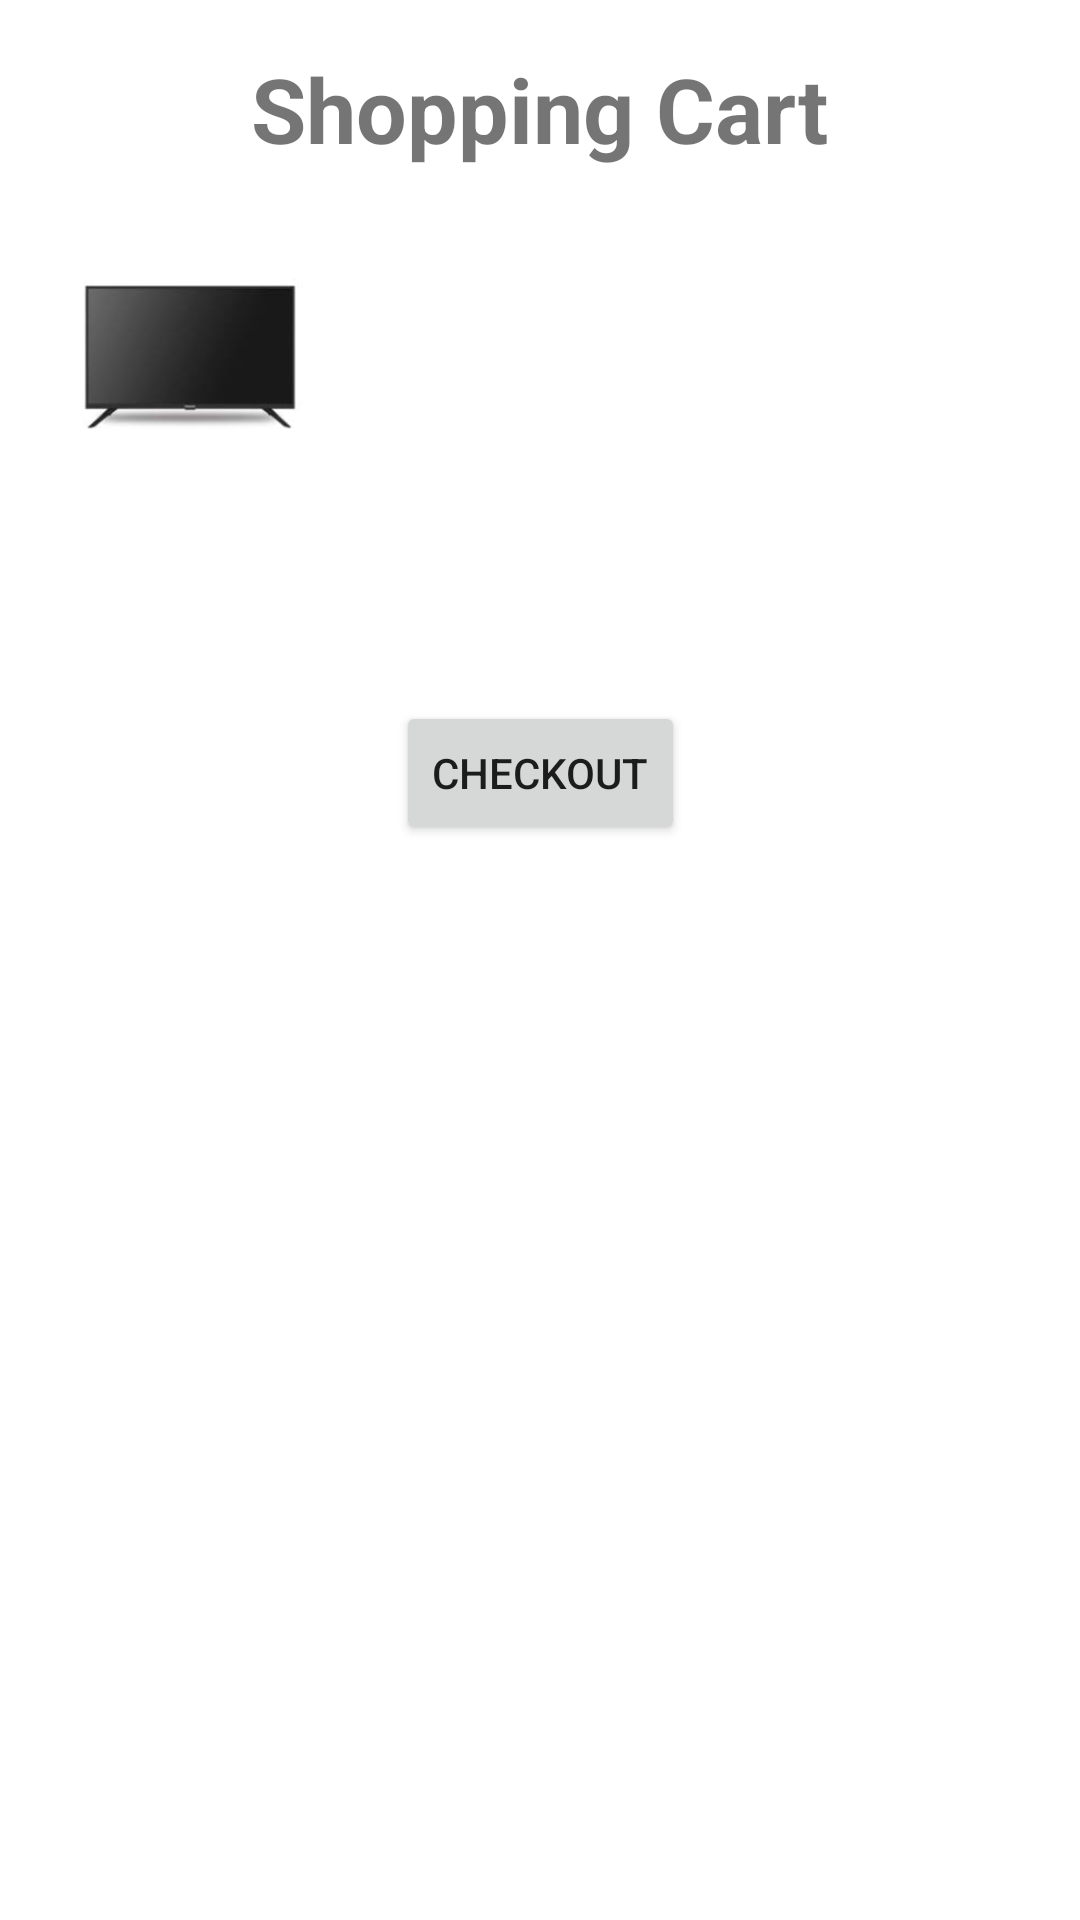

Icons on this 1080px x 1920px Android screen, each with its box as (x1, y1, x2, y2):
Product Image: (85, 285, 296, 429)
